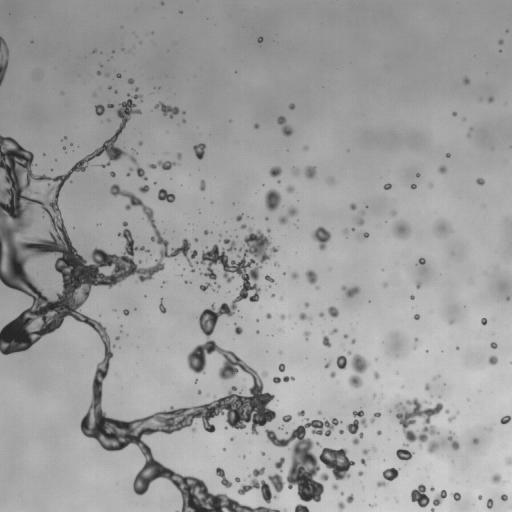droplet: (237, 418, 354, 503), (396, 397, 441, 446), (346, 409, 367, 444), (410, 484, 430, 507), (312, 226, 331, 250), (265, 189, 280, 211), (393, 220, 410, 238), (432, 490, 447, 506), (341, 286, 360, 297), (158, 189, 174, 202), (396, 448, 413, 460), (436, 221, 449, 236), (193, 143, 205, 159), (306, 270, 317, 284), (336, 355, 346, 369), (269, 166, 281, 177), (427, 441, 438, 453), (275, 457, 284, 471), (305, 166, 315, 178), (322, 334, 331, 347), (328, 306, 338, 317), (95, 104, 104, 115), (500, 415, 511, 424), (491, 474, 502, 483), (295, 504, 309, 511), (200, 282, 210, 291), (451, 492, 461, 501), (139, 185, 149, 193), (355, 217, 364, 225), (489, 355, 497, 364), (282, 414, 291, 422), (299, 312, 309, 319), (235, 324, 242, 334), (486, 498, 493, 508), (438, 165, 446, 173), (265, 275, 274, 282), (346, 494, 353, 503), (337, 502, 344, 511), (476, 178, 484, 185), (278, 363, 285, 371), (360, 232, 369, 238), (200, 180, 205, 190), (291, 272, 298, 279), (481, 317, 487, 325), (463, 77, 469, 84), (384, 183, 391, 189), (286, 186, 293, 192), (236, 214, 242, 221), (418, 258, 425, 264), (330, 328, 337, 334), (490, 342, 497, 348), (324, 361, 330, 368), (395, 402, 402, 408), (297, 410, 304, 416), (304, 331, 309, 339), (506, 458, 511, 466), (350, 203, 356, 209), (123, 309, 129, 315), (501, 494, 507, 500), (374, 371, 379, 378), (293, 168, 298, 174), (425, 384, 430, 390), (448, 416, 454, 421), (473, 438, 478, 444), (332, 484, 337, 490), (128, 78, 133, 83), (488, 97, 493, 102), (289, 104, 294, 109), (110, 171, 115, 176), (391, 210, 396, 215), (266, 313, 271, 318), (414, 314, 419, 319), (262, 371, 267, 376), (330, 372, 335, 377), (363, 449, 368, 454), (358, 471, 363, 476), (235, 477, 240, 482), (107, 104, 113, 108), (240, 224, 246, 228), (416, 282, 420, 288), (432, 375, 438, 379), (258, 37, 262, 42), (498, 40, 503, 44), (116, 73, 121, 77), (254, 123, 258, 128), (177, 153, 181, 158), (411, 184, 416, 188), (280, 314, 284, 319), (377, 430, 381, 435), (361, 459, 365, 464), (452, 112, 456, 116), (138, 141, 142, 145), (446, 153, 450, 157), (204, 230, 208, 234), (383, 283, 387, 287), (410, 295, 414, 299), (304, 302, 308, 306), (319, 312, 323, 316), (351, 339, 355, 343), (445, 409, 449, 413), (339, 430, 343, 434), (430, 487, 434, 491), (478, 495, 482, 499), (424, 400, 429, 403), (344, 229, 347, 233), (274, 263, 278, 266), (344, 334, 347, 338), (115, 336, 119, 339), (414, 338, 417, 342), (347, 351, 350, 355), (373, 447, 376, 451), (304, 146, 307, 149), (416, 173, 419, 176), (361, 211, 364, 214), (271, 294, 274, 297), (198, 391, 201, 394), (318, 411, 321, 414), (317, 442, 320, 445), (261, 452, 264, 455), (431, 508, 434, 511), (127, 172, 129, 176), (97, 72, 100, 74), (135, 88, 138, 90), (267, 229, 270, 231), (195, 238, 197, 241), (186, 280, 188, 283), (217, 285, 220, 287), (506, 297, 509, 299), (192, 428, 195, 430), (230, 438, 233, 440), (93, 50, 95, 52), (182, 120, 184, 122), (430, 184, 432, 186), (352, 228, 354, 230), (316, 287, 318, 289), (414, 346, 416, 348), (195, 379, 197, 381), (373, 395, 375, 397), (279, 426, 281, 428), (223, 448, 225, 450), (341, 492, 343, 494), (284, 509, 286, 511)
ligament: (0, 95, 279, 511), (348, 354, 368, 388), (377, 468, 399, 486), (0, 37, 8, 85), (155, 102, 178, 118), (216, 467, 232, 487), (279, 207, 297, 224), (277, 116, 292, 136), (149, 161, 174, 170), (447, 435, 459, 450), (273, 376, 294, 383), (370, 412, 380, 423), (159, 299, 166, 313), (485, 427, 491, 430)
